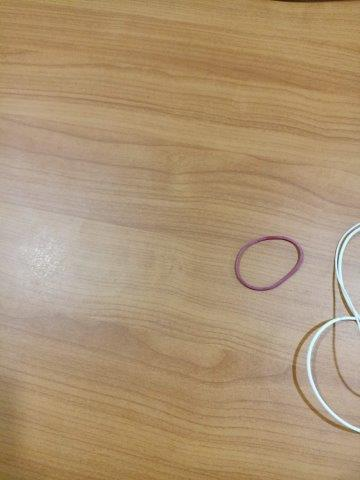karet: (234, 235, 304, 291)
